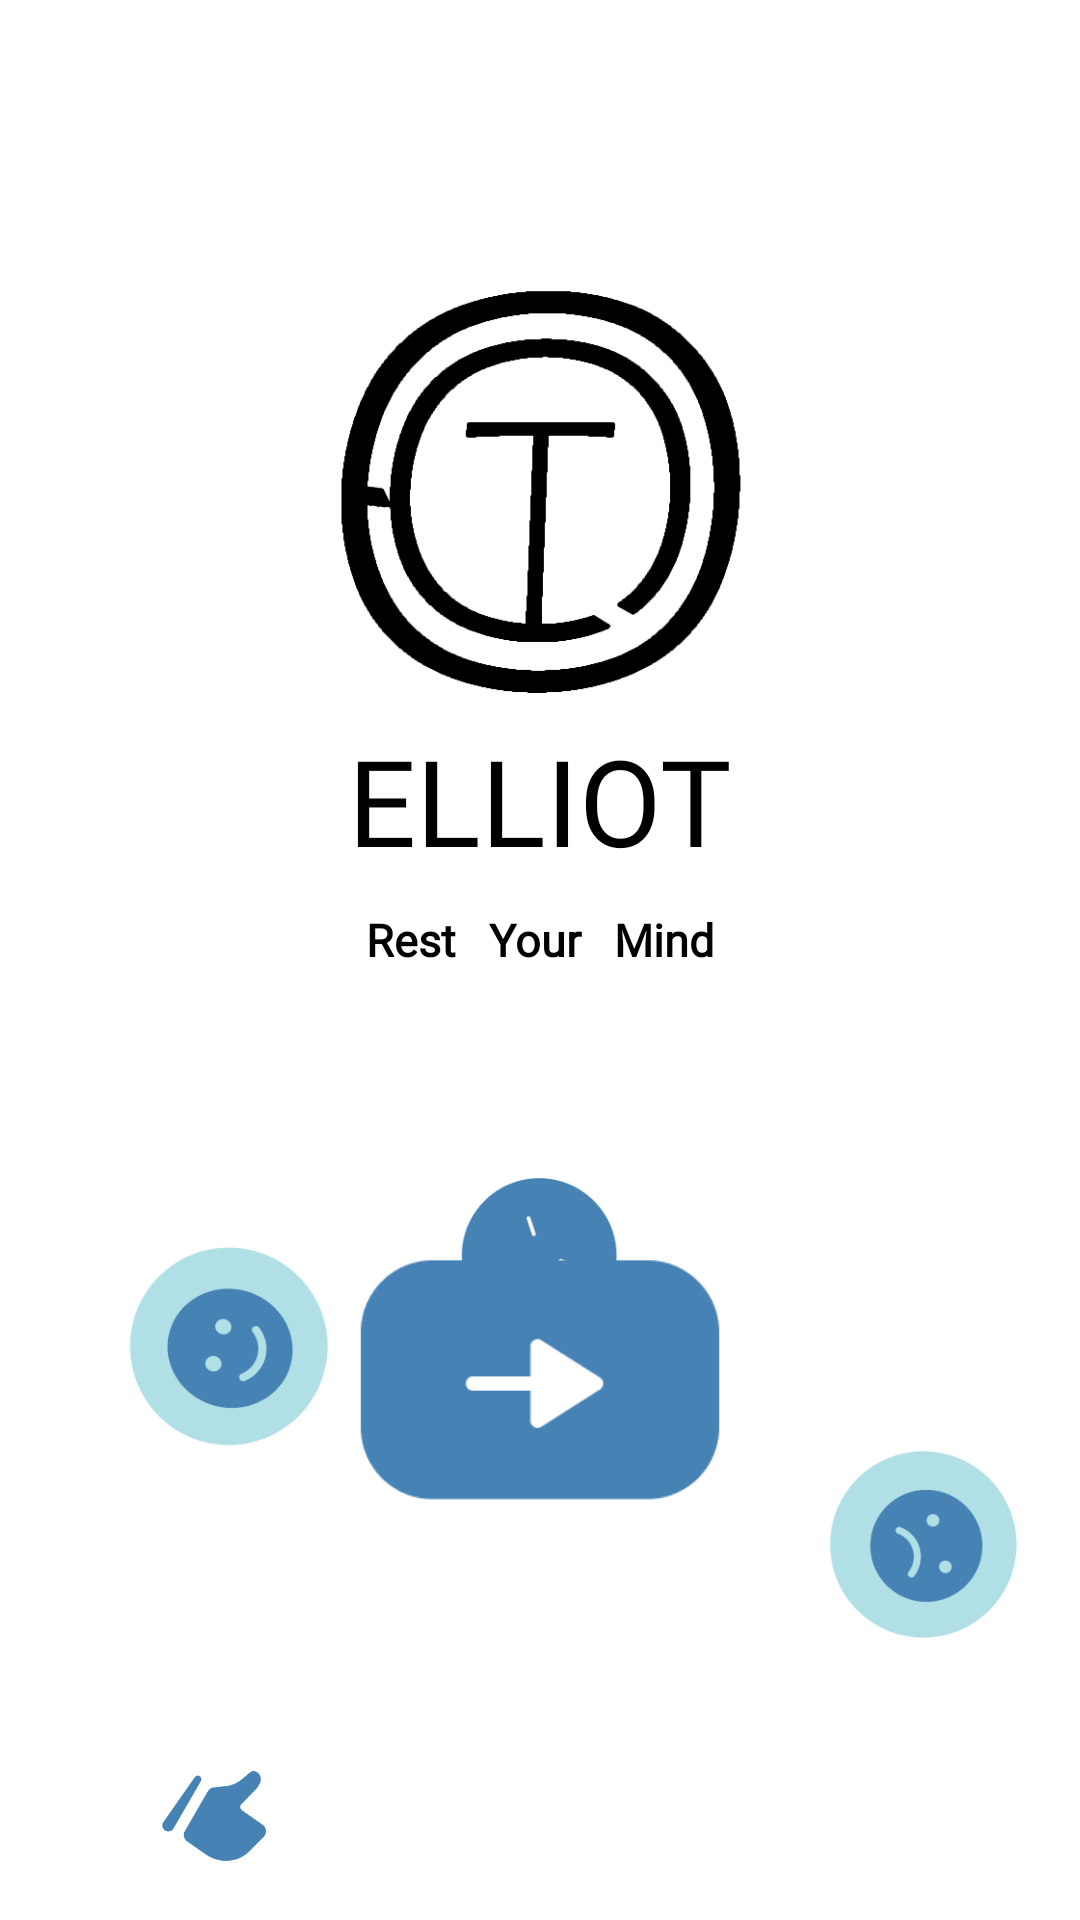

Icons on this 1080*1920 Android screen, each with the point to tap as point (x, y):
happy: point (229, 1346)
like: point (214, 1816)
sad: point (923, 1544)
